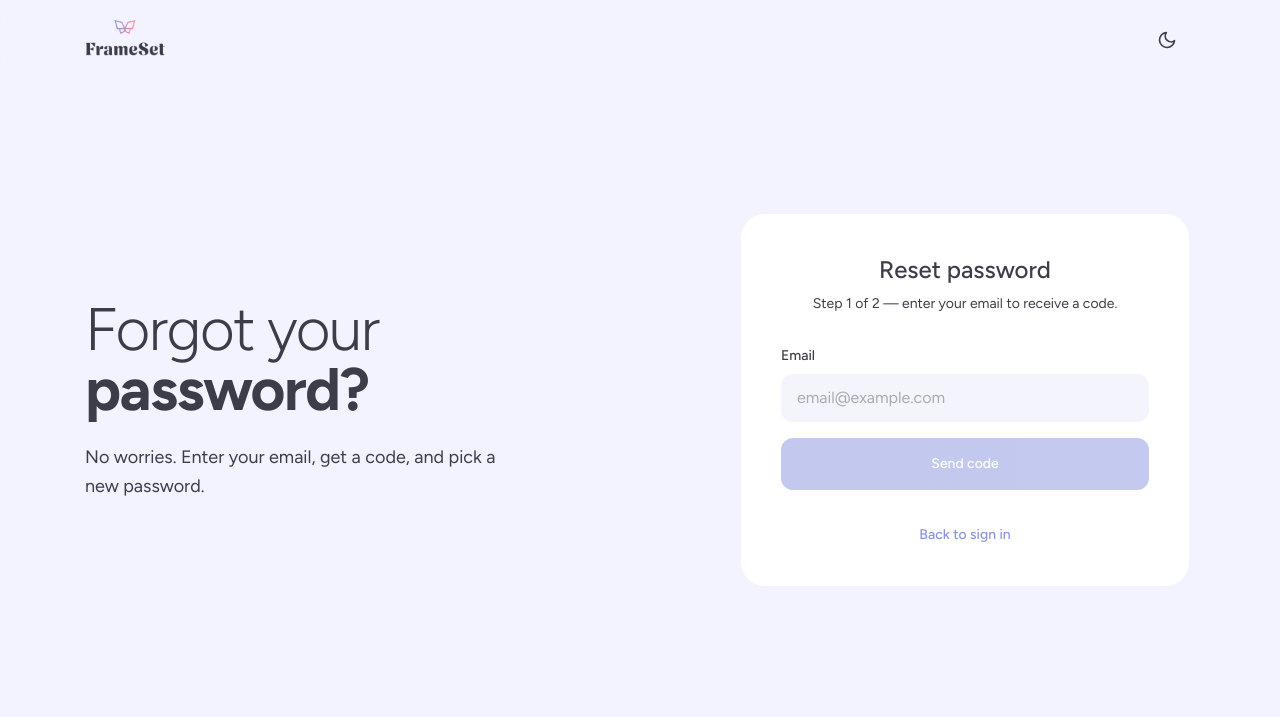
Test: ForgotPassword › goes back from the reset step to fix the email, keeping it typed
The image size is (1280, 717).
Type "axelle@example.com" into the field with placeholder "email@example.com".
click(965, 398); type("axelle@example.com")  # box x1=781 y1=374 x2=1149 y2=422
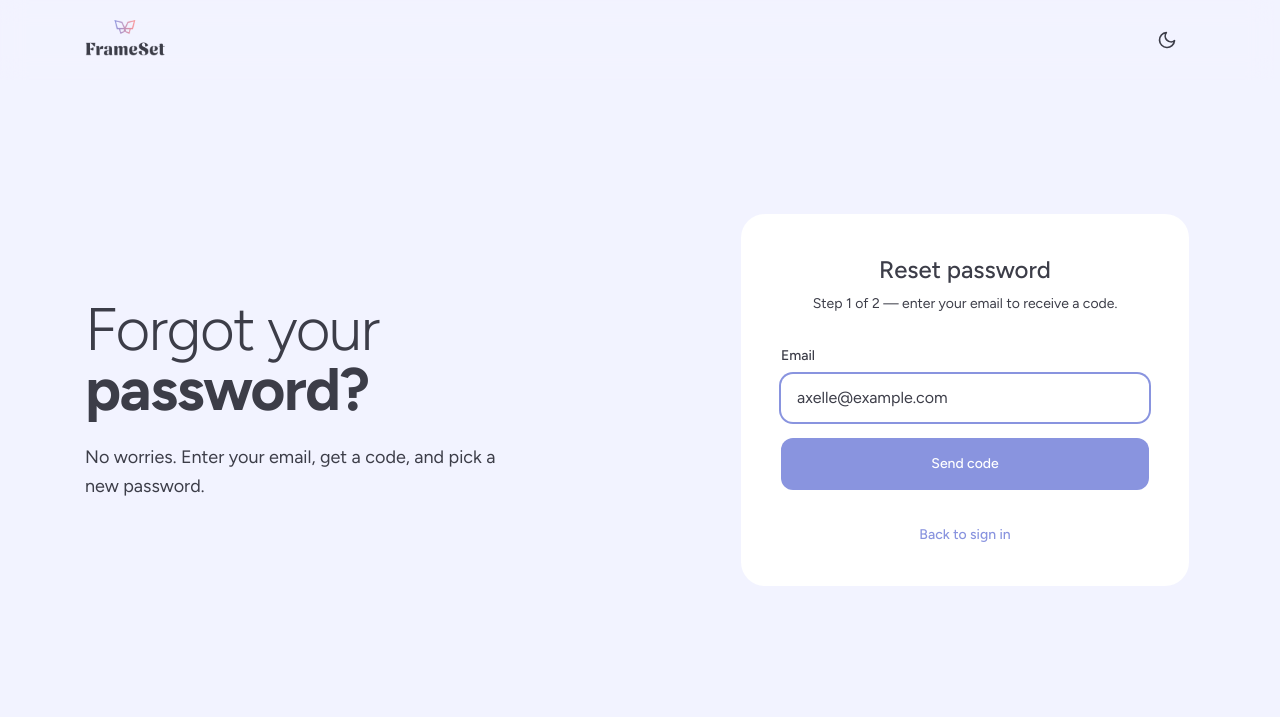
Click the button "Send code".
click(965, 464)  # box x1=781 y1=438 x2=1149 y2=490
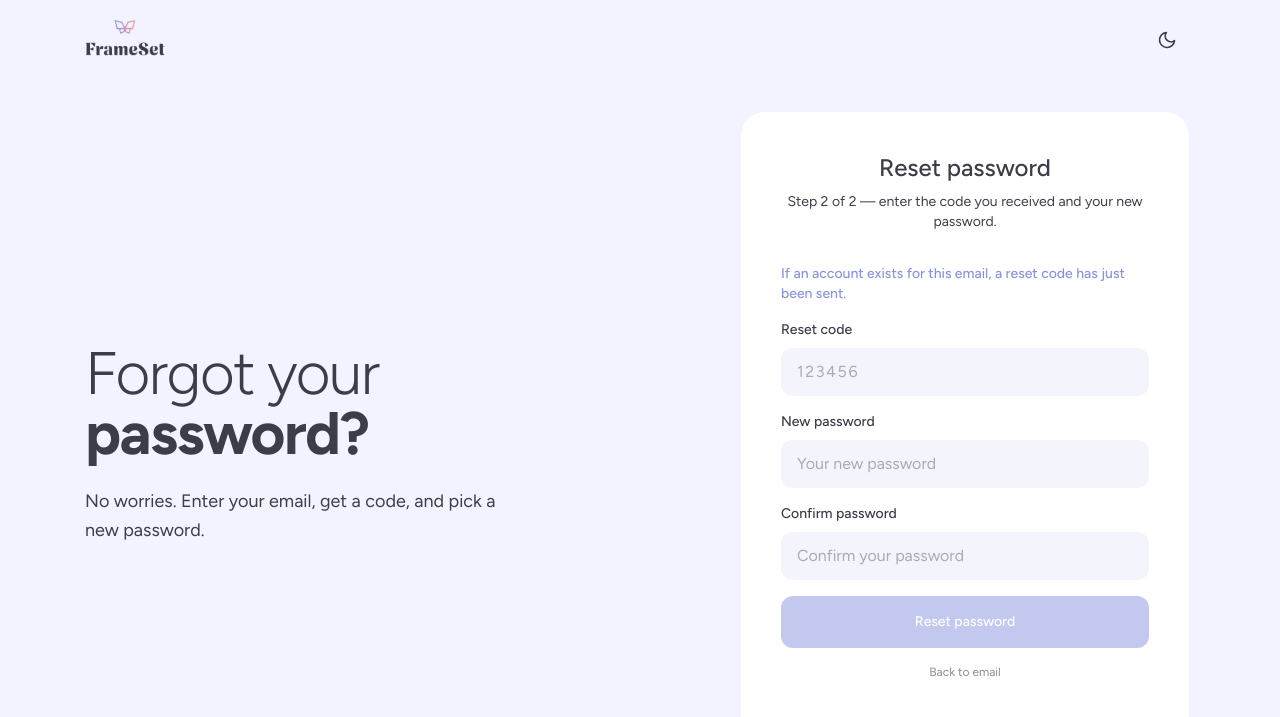
Now the field with placeholder "123456" is shown, box x1=781 y1=348 x2=1149 y2=396
Click the button "Back to email".
click(965, 672)  # box x1=781 y1=664 x2=1149 y2=680
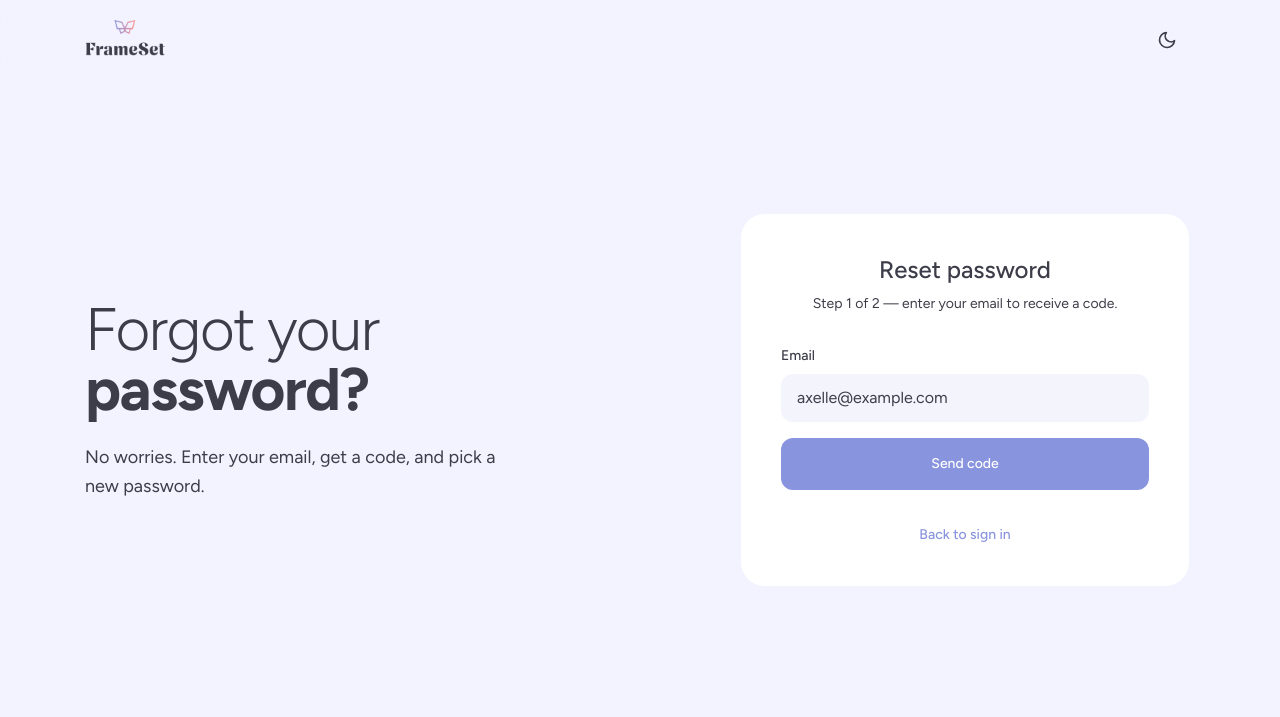
Now the text "Step 1 of 2 — enter your email to receive a code." is shown, box x1=813 y1=295 x2=1117 y2=312
